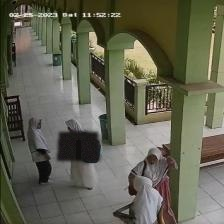Cadar_Niqab: (56, 117, 99, 160)
